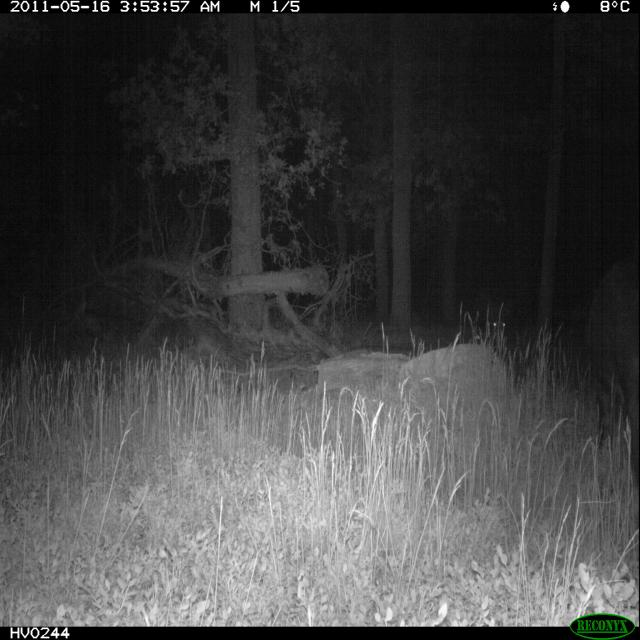boar: (471, 290, 538, 368)
